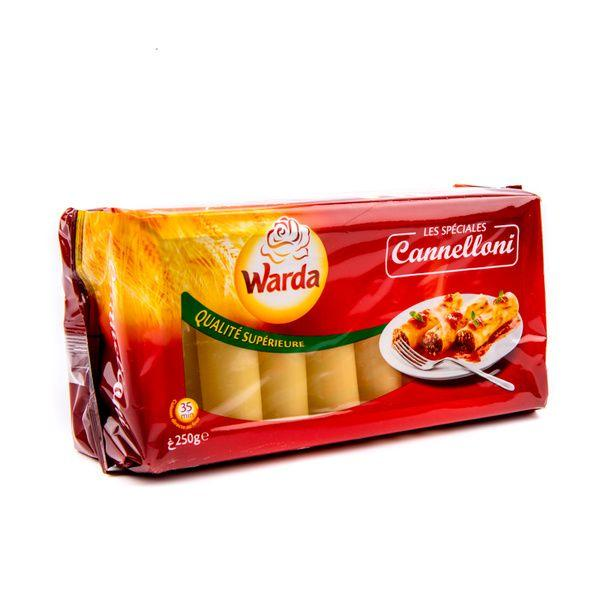Cannelloni: (71, 197, 548, 475)
